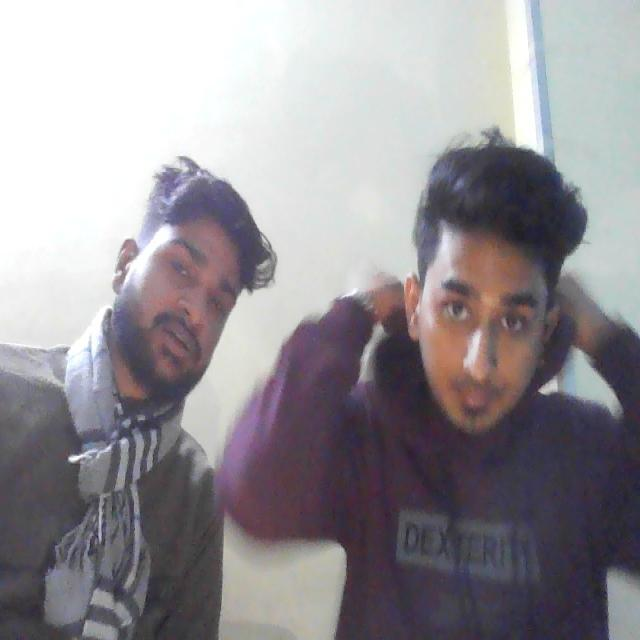real: (402, 157, 562, 460), (119, 161, 242, 395)
